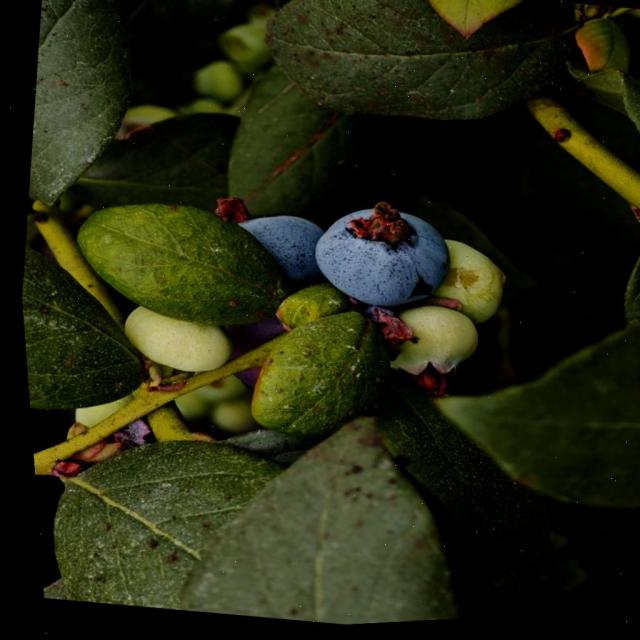RipeBlueBerry: (300, 198, 454, 323)
